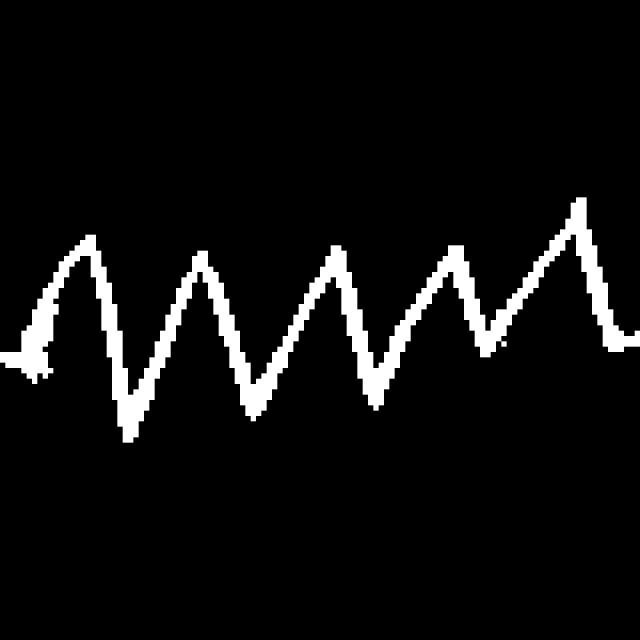resistor: (10, 181, 640, 463)
